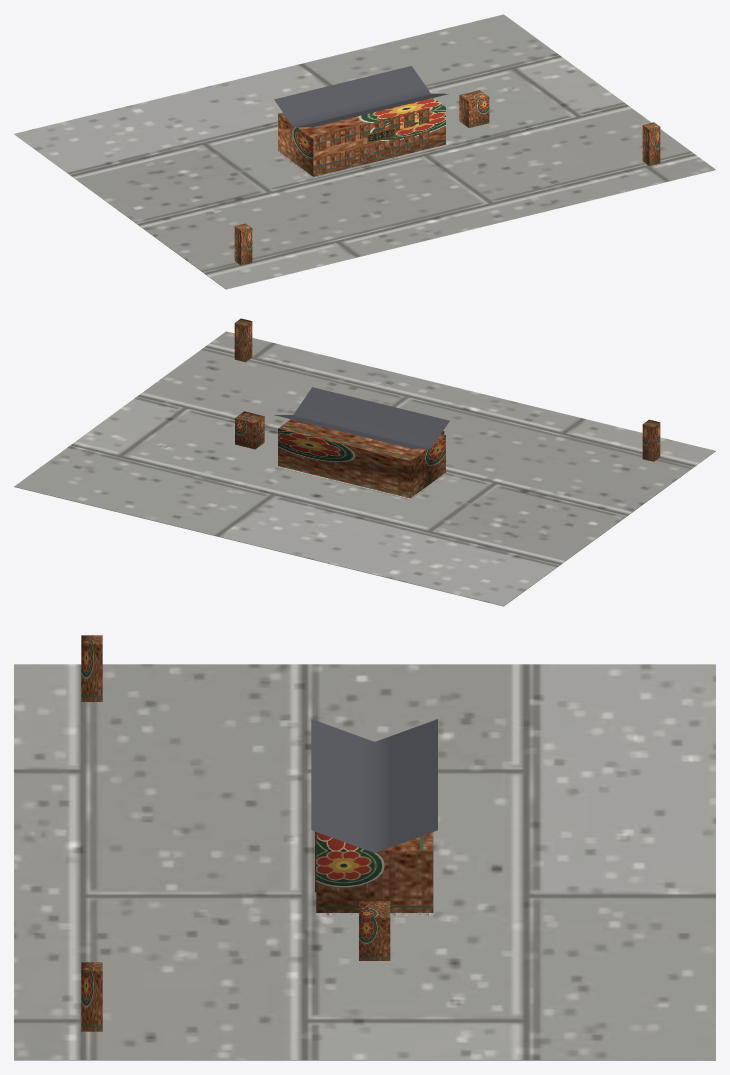
3 renders of one model, top to bottom at view 1: azimuth 30°, elevation 25°; view 2: azimuth 150°, elevation 25°; view 3: azimuth 270°, elevation 25°, orthographic. The views are drawn at different scales.
Visible parts, largest first — view 1: 11680_01_06030_012_01_L2__base, 11680_01_06030_012_02_L2__body, 11680_01_06030_012_03_L2__roof, 11680_01_06030_012_05_L2__openings, 11680_01_06030_012_06_L2__green; view 2: 11680_01_06030_012_01_L2__base, 11680_01_06030_012_02_L2__body, 11680_01_06030_012_03_L2__roof, 11680_01_06030_012_06_L2__green; view 3: 11680_01_06030_012_01_L2__base, 11680_01_06030_012_03_L2__roof, 11680_01_06030_012_02_L2__body, 11680_01_06030_012_06_L2__green.
Boxes of the visible parts, x1=… form: 11680_01_06030_012_01_L2__base: x1=14, y1=14, x2=715, y2=289; 11680_01_06030_012_02_L2__body: x1=278, y1=90, x2=489, y2=176; 11680_01_06030_012_03_L2__roof: x1=274, y1=66, x2=448, y2=127; 11680_01_06030_012_05_L2__openings: x1=315, y1=108, x2=429, y2=172; 11680_01_06030_012_06_L2__green: x1=234, y1=122, x2=660, y2=265; 11680_01_06030_012_01_L2__base: x1=14, y1=331, x2=715, y2=606; 11680_01_06030_012_02_L2__body: x1=235, y1=411, x2=445, y2=498; 11680_01_06030_012_03_L2__roof: x1=274, y1=387, x2=449, y2=448; 11680_01_06030_012_06_L2__green: x1=234, y1=318, x2=660, y2=461; 11680_01_06030_012_01_L2__base: x1=14, y1=664, x2=715, y2=1060; 11680_01_06030_012_03_L2__roof: x1=311, y1=719, x2=437, y2=852; 11680_01_06030_012_02_L2__body: x1=316, y1=832, x2=433, y2=960; 11680_01_06030_012_06_L2__green: x1=81, y1=635, x2=102, y2=1031.
Size of the model in its own units: 96 by 10 by 72.
5 materials, 5 textured.
